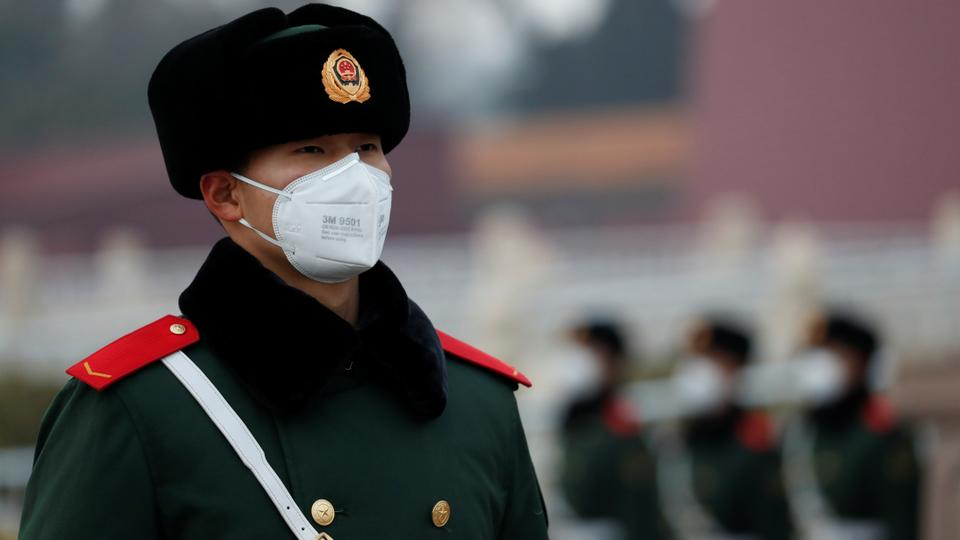n95: (265, 155, 396, 285)
